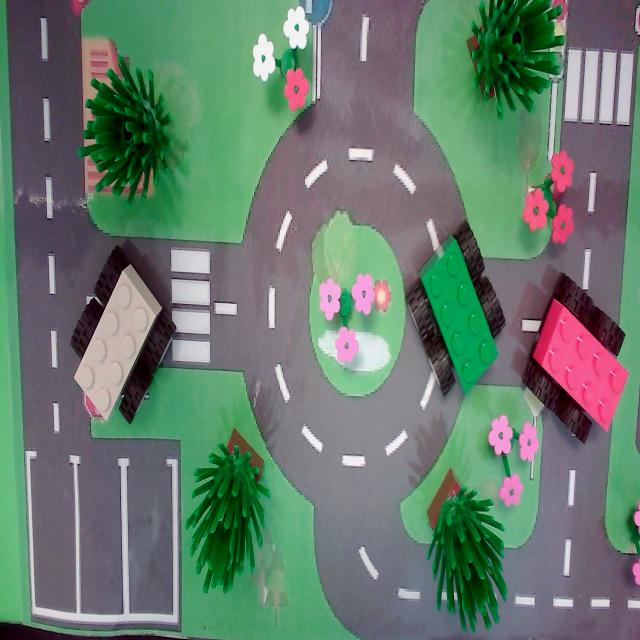Car: (66, 238, 182, 441), (512, 282, 636, 448), (401, 224, 513, 400)
Flower: (244, 0, 316, 126), (312, 258, 378, 380), (512, 138, 578, 252), (484, 410, 540, 528)
Tree: (420, 451, 508, 640), (72, 46, 172, 210), (188, 422, 272, 596), (457, 0, 565, 124)
